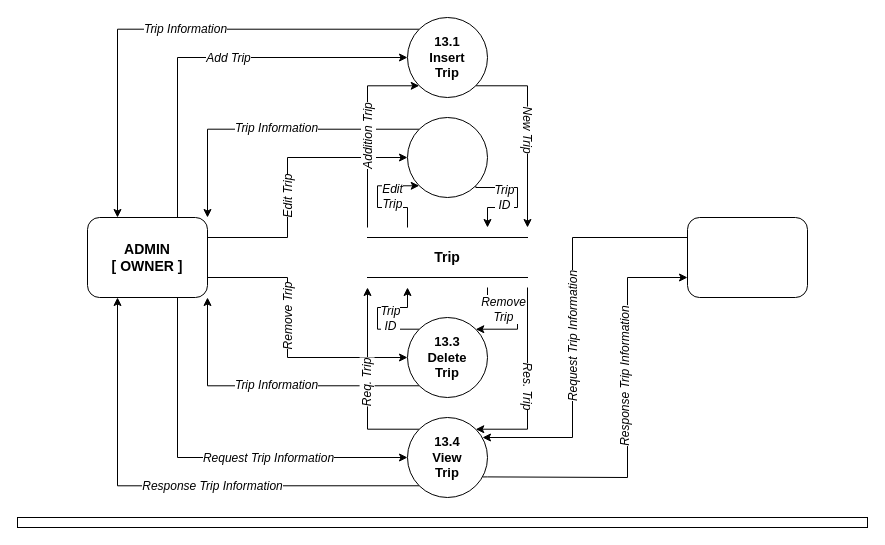
Image size: 885x545. Some labels were removed from this diagram. The shapes that lost their labels are listed below. From the top down, each one's box as (x1, y1, x2, y2) in pixels, then its label:
(406, 116, 488, 198): 13.2 Update Trip
(686, 216, 808, 298): USERS [ PASSENGER ]
